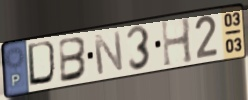2: (194, 13, 222, 62)
3: (125, 24, 152, 72)
B: (58, 35, 90, 86)
D: (26, 39, 60, 88)
H: (160, 15, 196, 70)
N: (91, 29, 126, 77)
